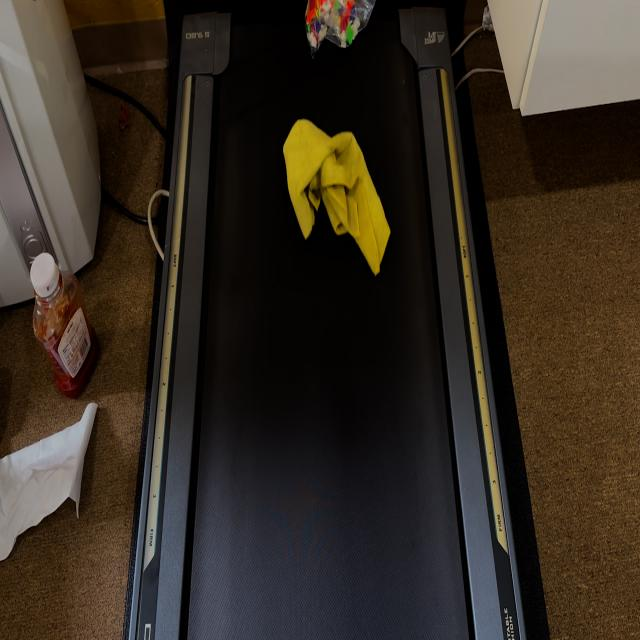Trash: (281, 120, 394, 278), (297, 0, 378, 61)
